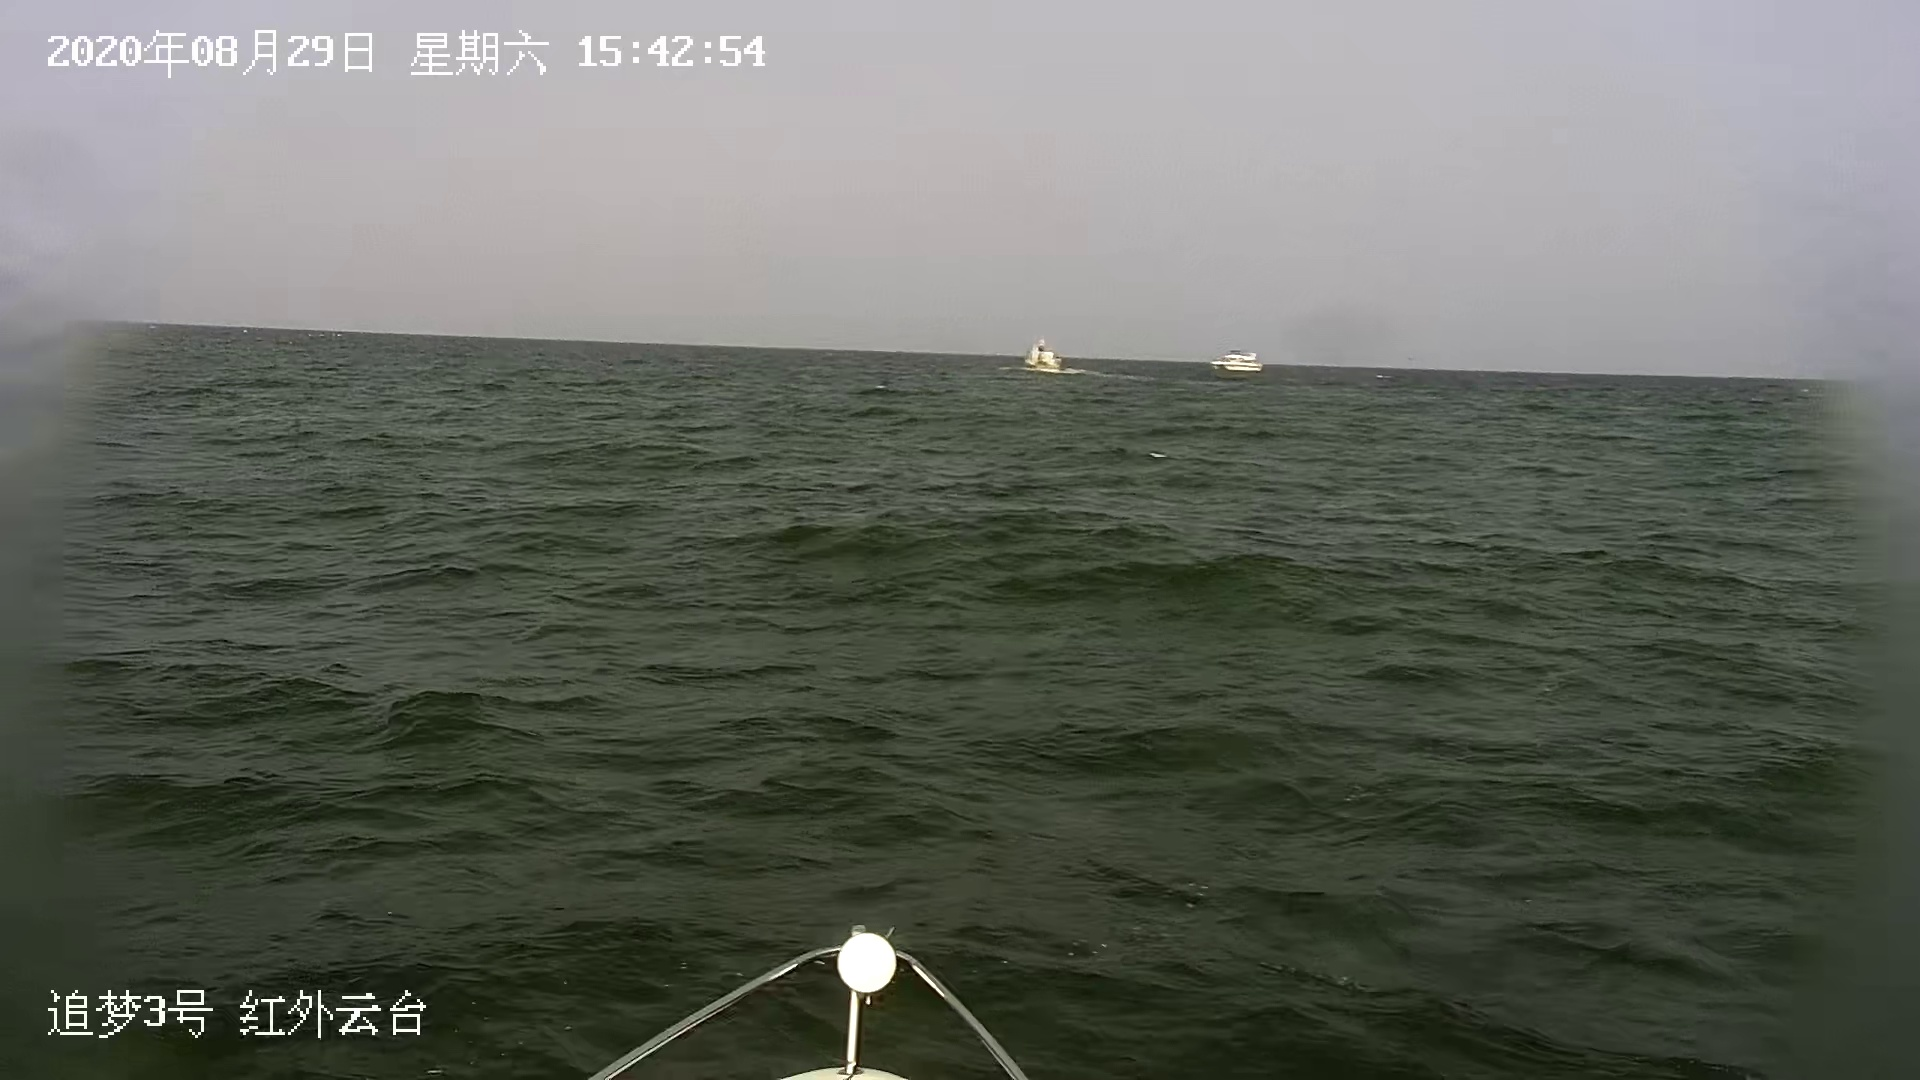barrier: (1017, 334, 1077, 378), (1213, 348, 1266, 377)
